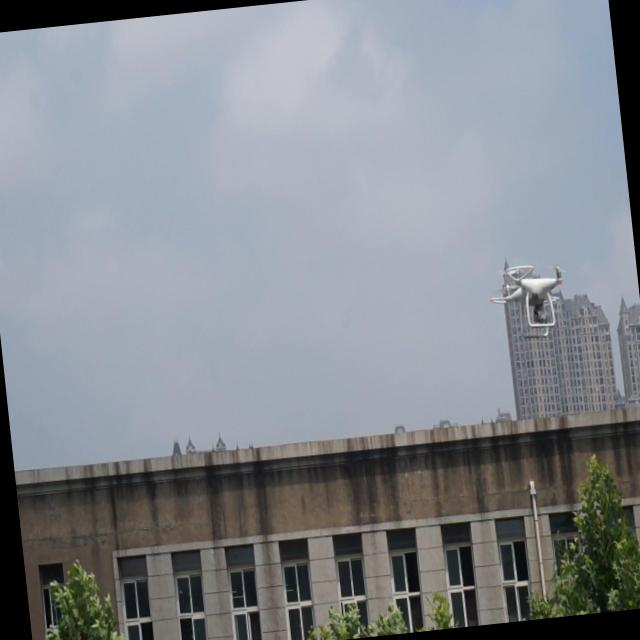drone: (484, 256, 578, 346)
